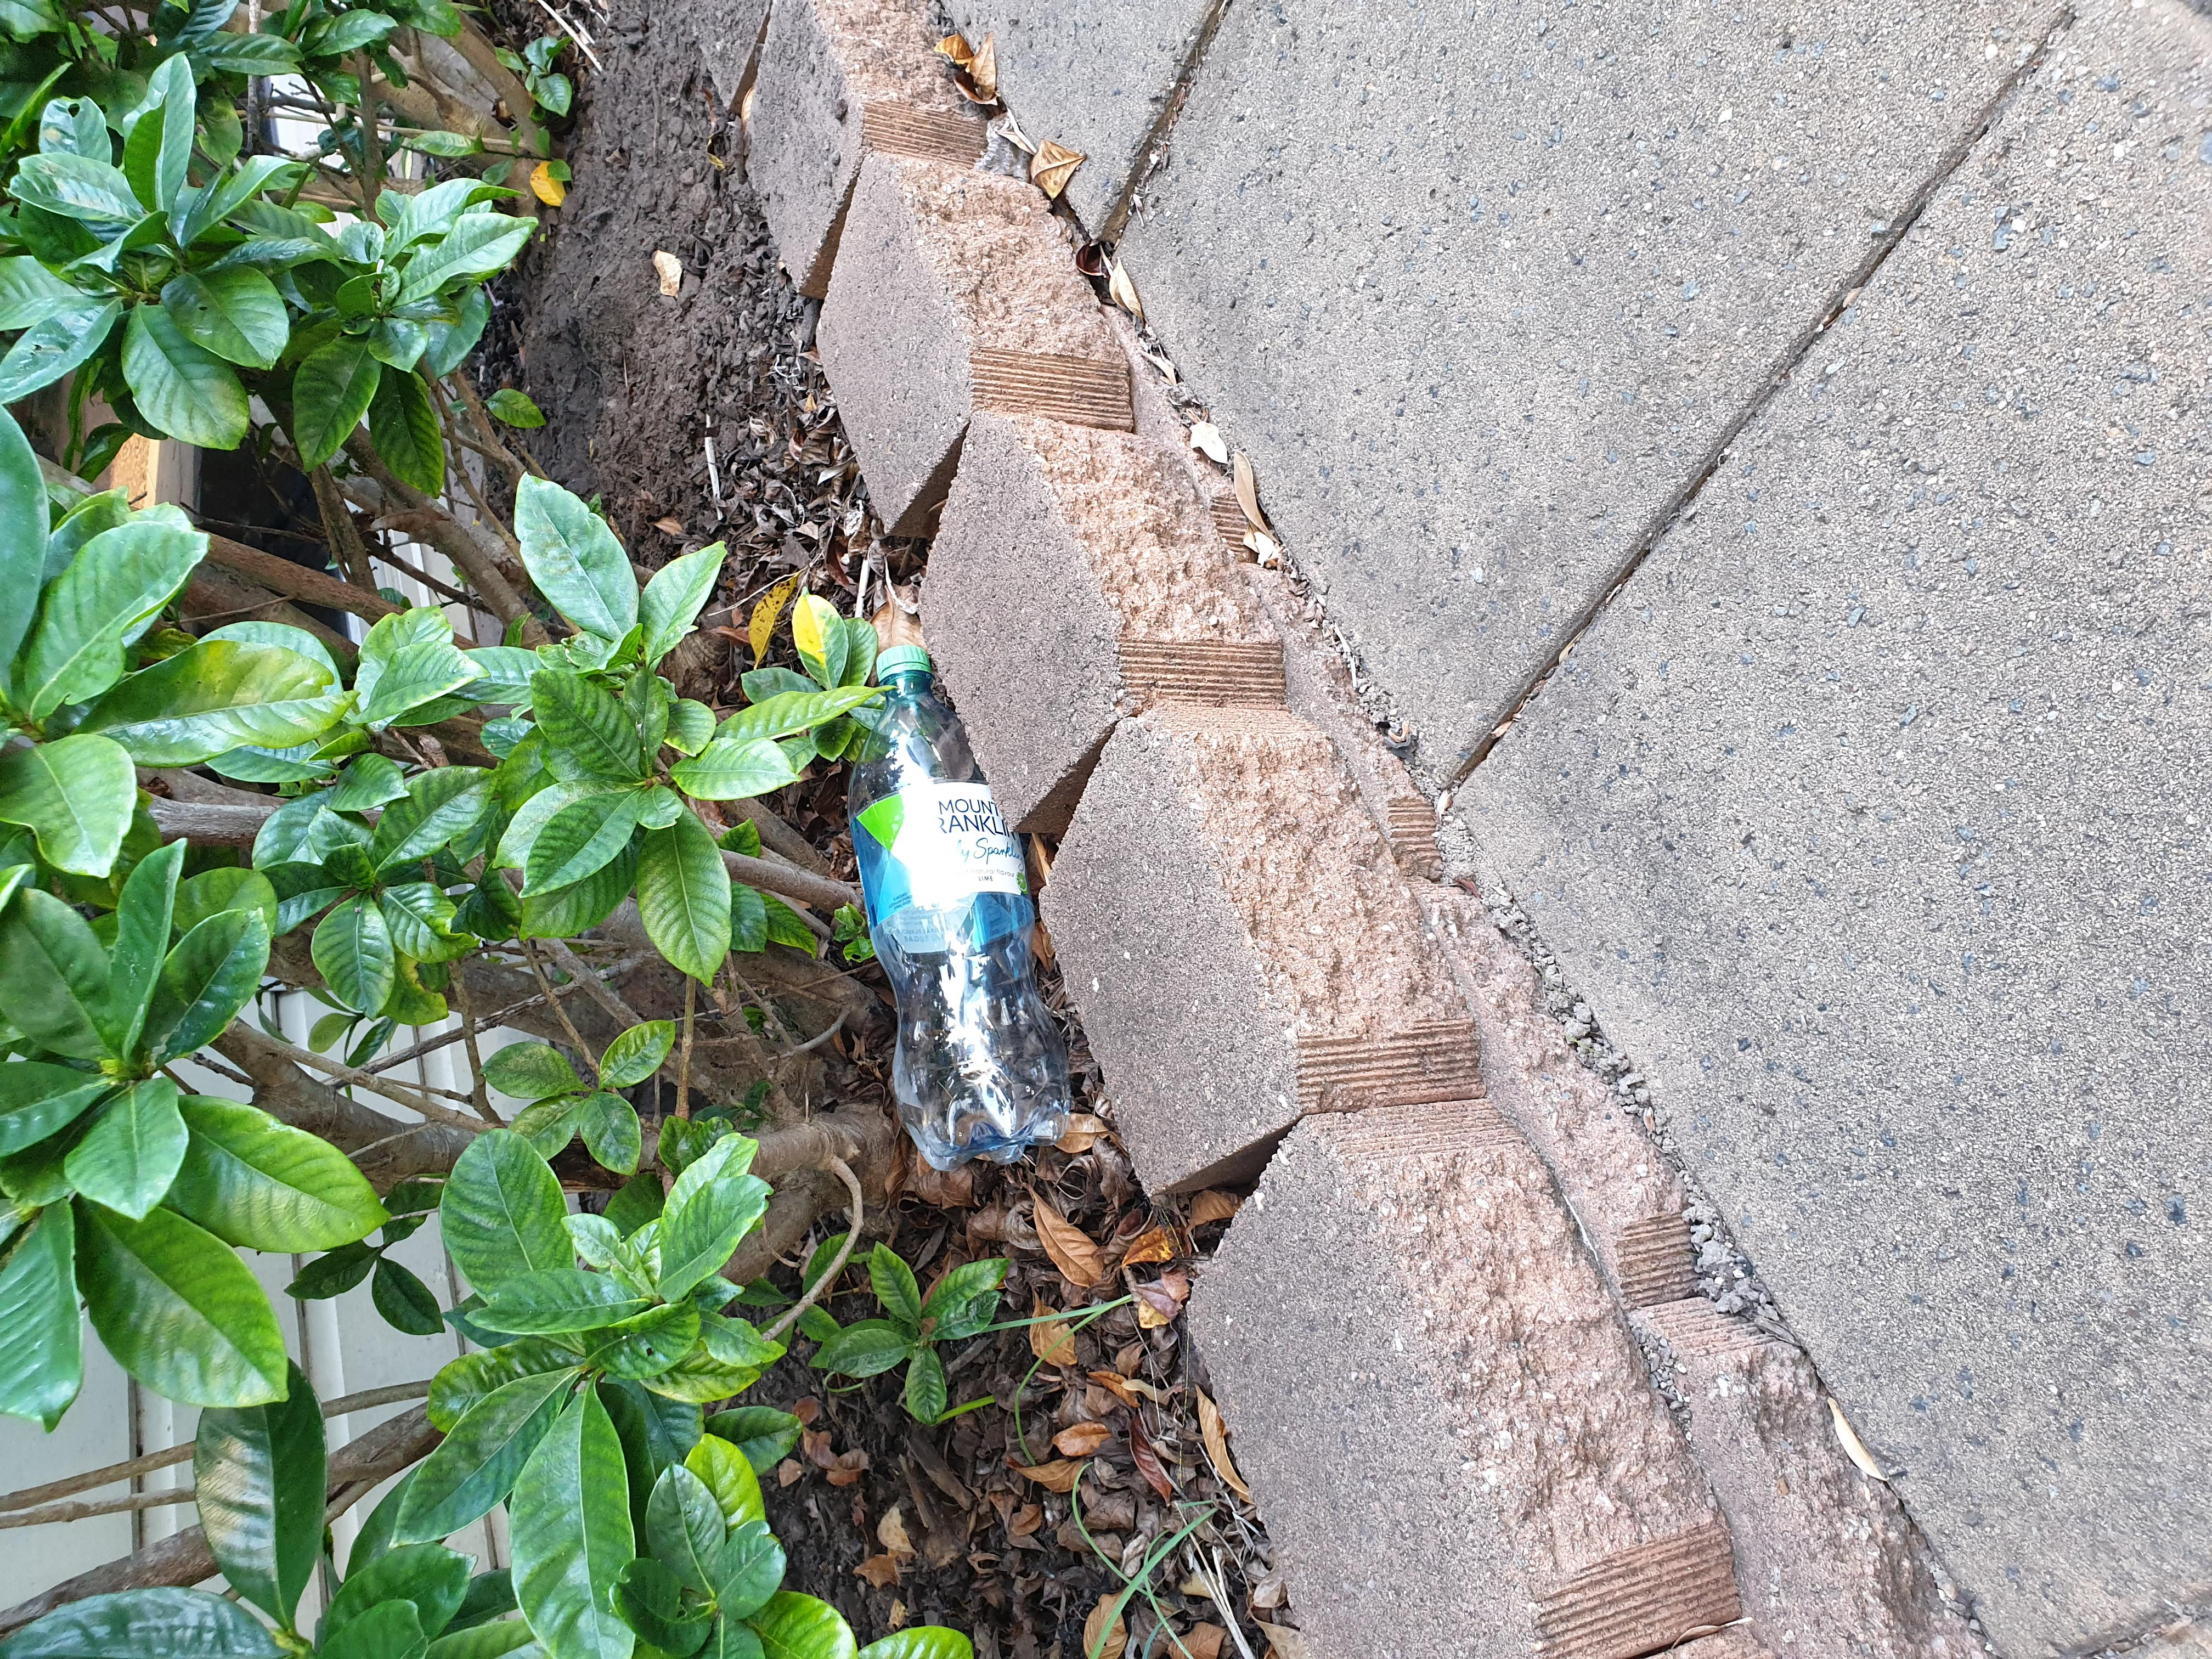Plastic Bottle: (850, 645, 1066, 1169)
